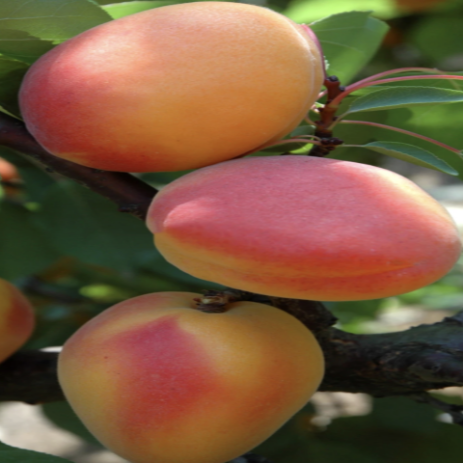mango: (0, 2, 344, 176), (36, 273, 346, 460), (142, 139, 463, 313)
